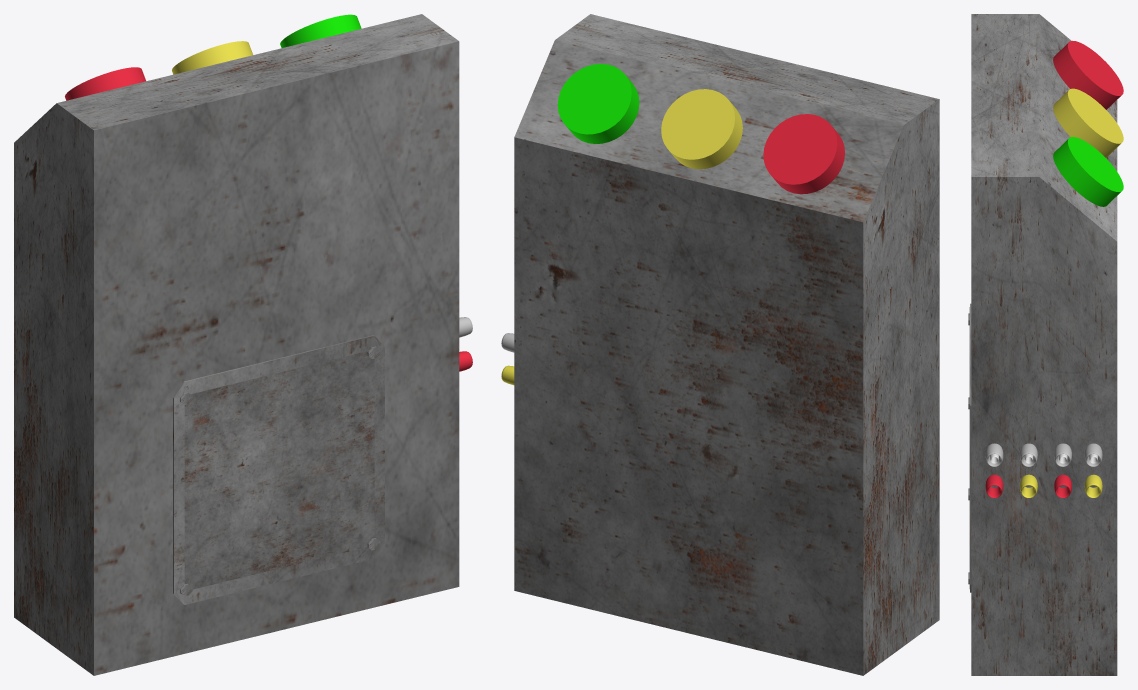
The model's file is Buttons (FBX) 1K.fbx.
The picture shows the model from 3 angles, left to right: view 1: azimuth 30°, elevation 25°; view 2: azimuth 150°, elevation 25°; view 3: azimuth 270°, elevation 25°; orthographic projection. The views are drawn at different scales.
Visible parts, largest first — view 1: Base, Luke, ButtonRed, ButtonGreen, ButtonYellow; view 2: Base, ButtonYellow, ButtonRed, ButtonGreen; view 3: Base, ButtonGreen, ButtonYellow, ButtonRed, Luke, CabelYellow2, CabelRed1, CabelYellow1, CabelRed2, CabelOutside1, CabelOutside4, CabelOutside3 (+1 smaller).
Part boxes in pixels (x1,y1,x2,y2): Base: (14,14,459,675); Luke: (173,335,384,604); ButtonRed: (65,67,145,100); ButtonGreen: (280,14,361,47); ButtonYellow: (172,41,252,74); Base: (514,14,939,675); ButtonYellow: (661,89,742,169); ButtonRed: (763,114,844,194); ButtonGreen: (557,64,639,143); Base: (971,14,1117,675); ButtonGreen: (1053,137,1123,206); ButtonYellow: (1053,88,1123,157); ButtonRed: (1053,40,1123,109); Luke: (969,303,971,592); CabelYellow2: (1084,474,1102,497); CabelRed1: (985,474,1003,497); CabelYellow1: (1020,474,1037,497); CabelRed2: (1054,474,1071,497); CabelOutside1: (985,443,1003,466); CabelOutside4: (1084,443,1102,466); CabelOutside3: (1054,443,1071,466).
Bounding box in the file's own units: 77.44 × 105 × 29.42.
6 materials, 2 textured.
